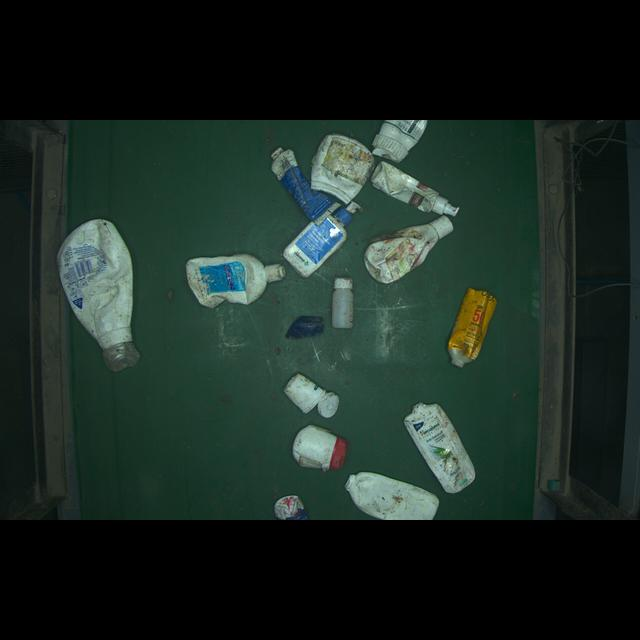mix PET: (54, 215, 145, 384), (401, 393, 482, 493), (179, 248, 287, 314), (442, 279, 498, 372), (331, 269, 355, 337)
